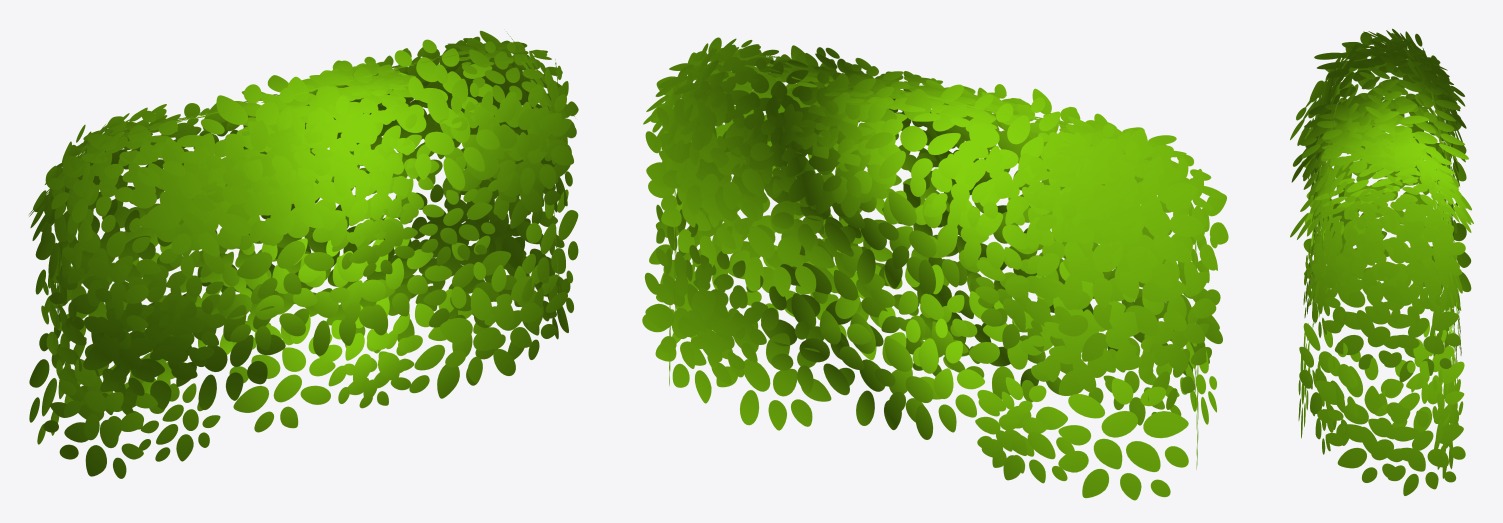
Rendered from bush_b.glb.
3 views of the same model, side by side, from view 1: azimuth 30°, elevation 25°; view 2: azimuth 150°, elevation 25°; view 3: azimuth 270°, elevation 25° (orthographic). The views are drawn at different scales.
Visible parts, largest first — view 1: Bush_Large; view 2: Bush_Large; view 3: Bush_Large.
Part boxes in pixels (bbox=[...]): Bush_Large: bbox=[29, 30, 578, 478]; Bush_Large: bbox=[642, 37, 1228, 500]; Bush_Large: bbox=[1290, 28, 1473, 495].
Size of the model in its own units: 1.9 by 1.22 by 0.7238.
Materials: 1 (1 with a texture image).
